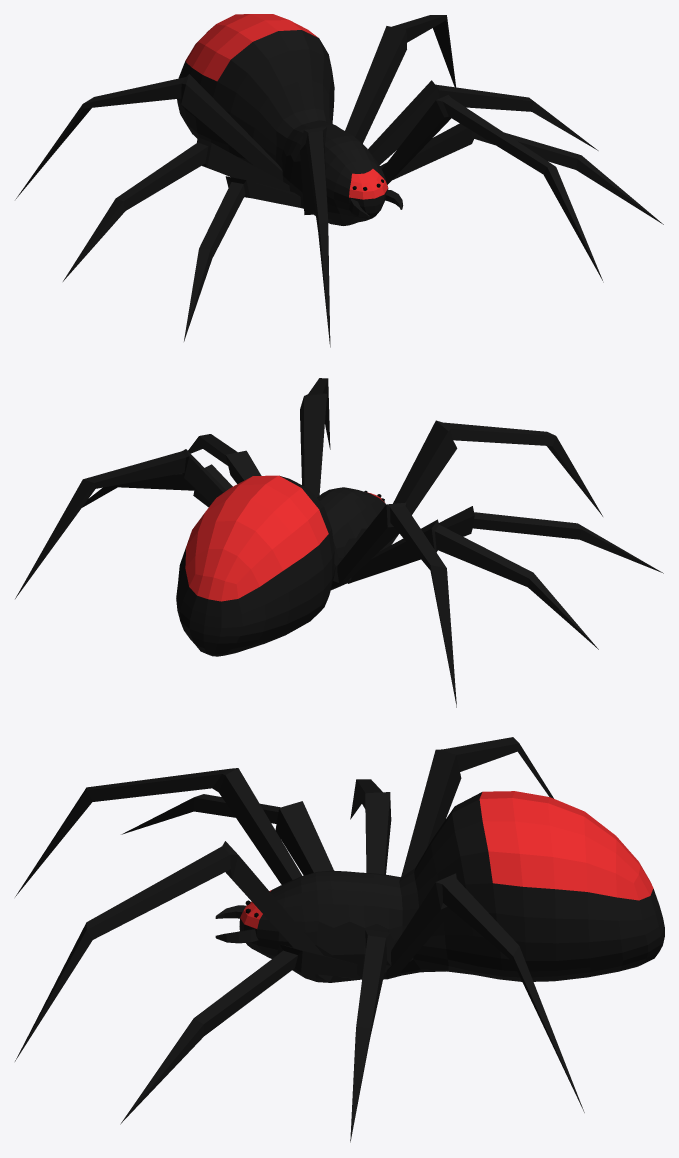
Rendered from spider.fbx.
3 renders of one model, top to bottom at view 1: azimuth 30°, elevation 25°; view 2: azimuth 150°, elevation 25°; view 3: azimuth 270°, elevation 25°, orthographic. The views are drawn at different scales.
Visible parts, largest first — view 1: spbody, spleg3b, spleg0a, spleg2b, spleg3a, spleg2a, spleg1a, spleg1b, spleg0b; view 2: spbody, spleg0b, spleg3b, spleg2b, spleg3a, spleg1b, spleg0a, spleg1a, spleg2a; view 3: spbody, spleg0a, spleg0b, spleg3a, spleg1a, spleg3b, spleg1b, spleg2a, spleg2b.
Part boxes in pixels (x1,y1,x2,y2): spbody: [177, 14, 388, 225]; spleg3b: [15, 74, 283, 199]; spleg0a: [381, 95, 603, 282]; spleg2b: [63, 137, 290, 281]; spleg3a: [345, 15, 455, 143]; spleg2a: [368, 80, 598, 165]; spleg1a: [380, 123, 663, 224]; spleg1b: [184, 176, 301, 341]; spleg0b: [300, 127, 330, 347]; spbody: [176, 475, 385, 656]; spleg0b: [379, 420, 602, 551]; spleg3b: [336, 502, 456, 707]; spleg2b: [347, 519, 598, 649]; spleg3a: [15, 449, 226, 598]; spleg1b: [439, 506, 663, 573]; spleg0a: [300, 378, 330, 497]; spleg1a: [188, 434, 261, 483]; spleg2a: [82, 464, 232, 507]; spbody: [239, 791, 664, 982]; spleg0a: [15, 841, 332, 1061]; spleg0b: [15, 768, 302, 896]; spleg3a: [386, 873, 584, 1112]; spleg1a: [120, 944, 360, 1124]; spleg3b: [401, 737, 553, 877]; spleg1b: [121, 794, 333, 875]; spleg2a: [350, 929, 391, 1142]; spleg2b: [350, 779, 391, 874].
Size of the model in its own units: 110 by 29.09 by 93.37.
